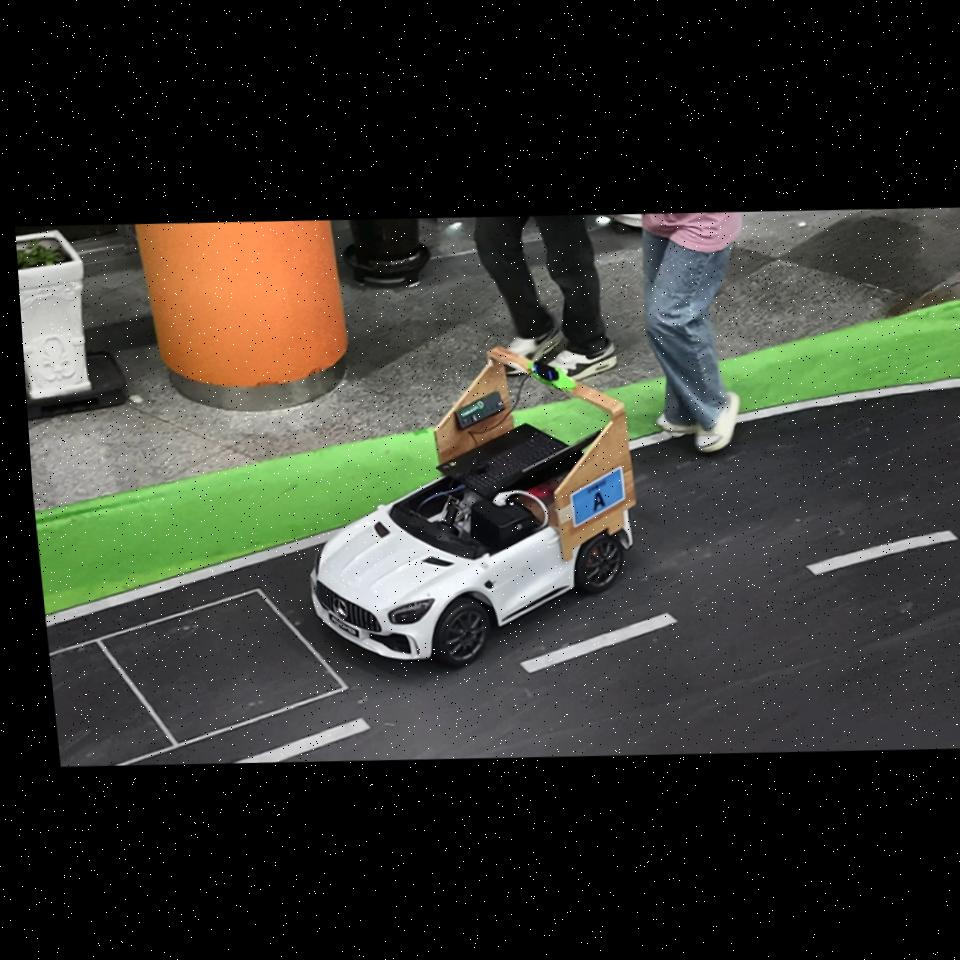broken_line: (518, 613, 678, 673), (806, 530, 959, 575), (234, 717, 371, 763)
